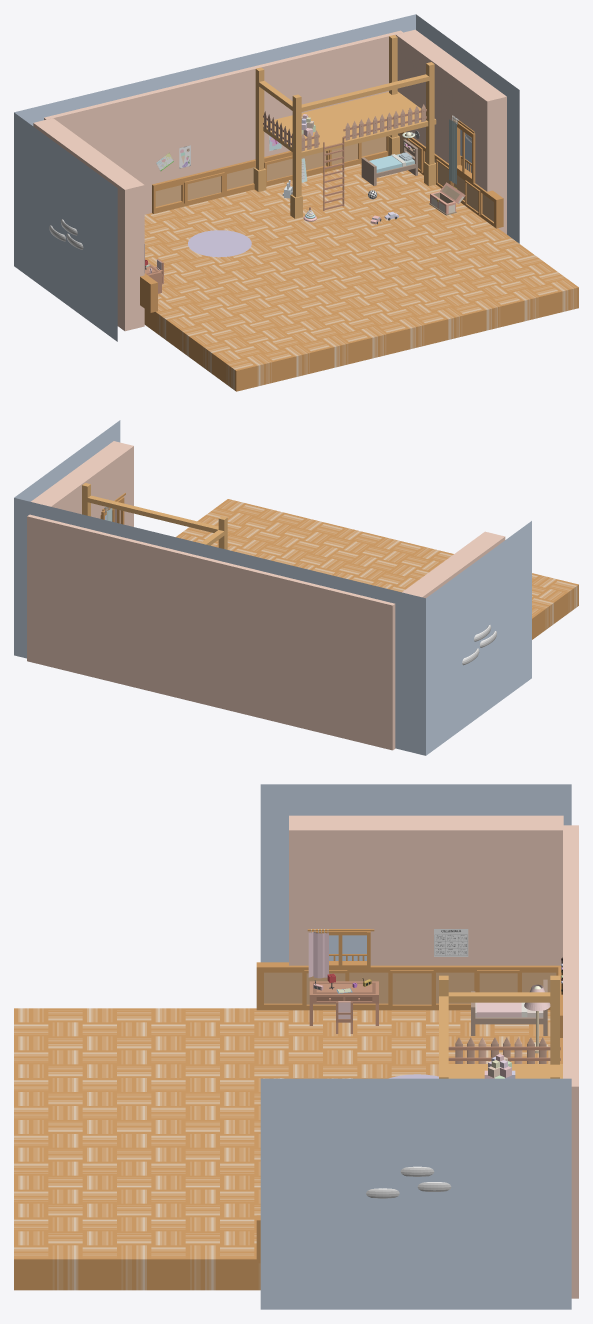
Rendered from Bedroom.fbx.
3 renders of one model, top to bottom at view 1: azimuth 30°, elevation 25°; view 2: azimuth 150°, elevation 25°; view 3: azimuth 270°, elevation 25°, orthographic. The views are drawn at different scales.
Visible parts, largest first — view 1: Floor, Wall, Outside, SecondFloor, WoodPanels, Fence, Circle, BoyWindow, BoyBed, Stairs, ToyChest; view 2: Wall, Outside, Floor, SecondFloor; view 3: Outside, Floor, Wall, WoodPanels, SecondFloor, Desk, GirlWindow, Fence, GirlBed, Painting8.
Part boxes in pixels (left/top/right/bottom): Floor: left=144, top=163, right=578, bottom=391; Wall: left=33, top=29, right=506, bottom=331; Outside: left=14, top=14, right=519, bottom=341; SecondFloor: left=253, top=35, right=436, bottom=218; WoodPanels: left=140, top=132, right=503, bottom=312; Fence: left=263, top=104, right=426, bottom=151; Circle: left=188, top=230, right=251, bottom=257; BoyWindow: left=449, top=115, right=475, bottom=184; BoyBed: left=361, top=139, right=417, bottom=185; Stairs: left=323, top=137, right=344, bottom=210; ToyChest: left=429, top=182, right=465, bottom=215; Wall: left=27, top=441, right=505, bottom=750; Outside: left=14, top=420, right=531, bottom=755; Floor: left=176, top=499, right=578, bottom=639; SecondFloor: left=82, top=483, right=227, bottom=549; Outside: left=260, top=784, right=571, bottom=1309; Floor: left=14, top=1008, right=550, bottom=1290; Wall: left=289, top=815, right=578, bottom=1298; WoodPanels: left=256, top=962, right=562, bottom=1263; SecondFloor: left=439, top=975, right=562, bottom=1078; Desk: left=309, top=973, right=378, bottom=1033; GirlWindow: left=307, top=929, right=374, bottom=978; Fence: left=448, top=1037, right=560, bottom=1063; GirlBed: left=471, top=979, right=547, bottom=1035; Painting8: left=434, top=929, right=468, bottom=956.
Size of the model in its own units: 4098 by 1486 by 3291.
Materials: 181 (5 with a texture image).
